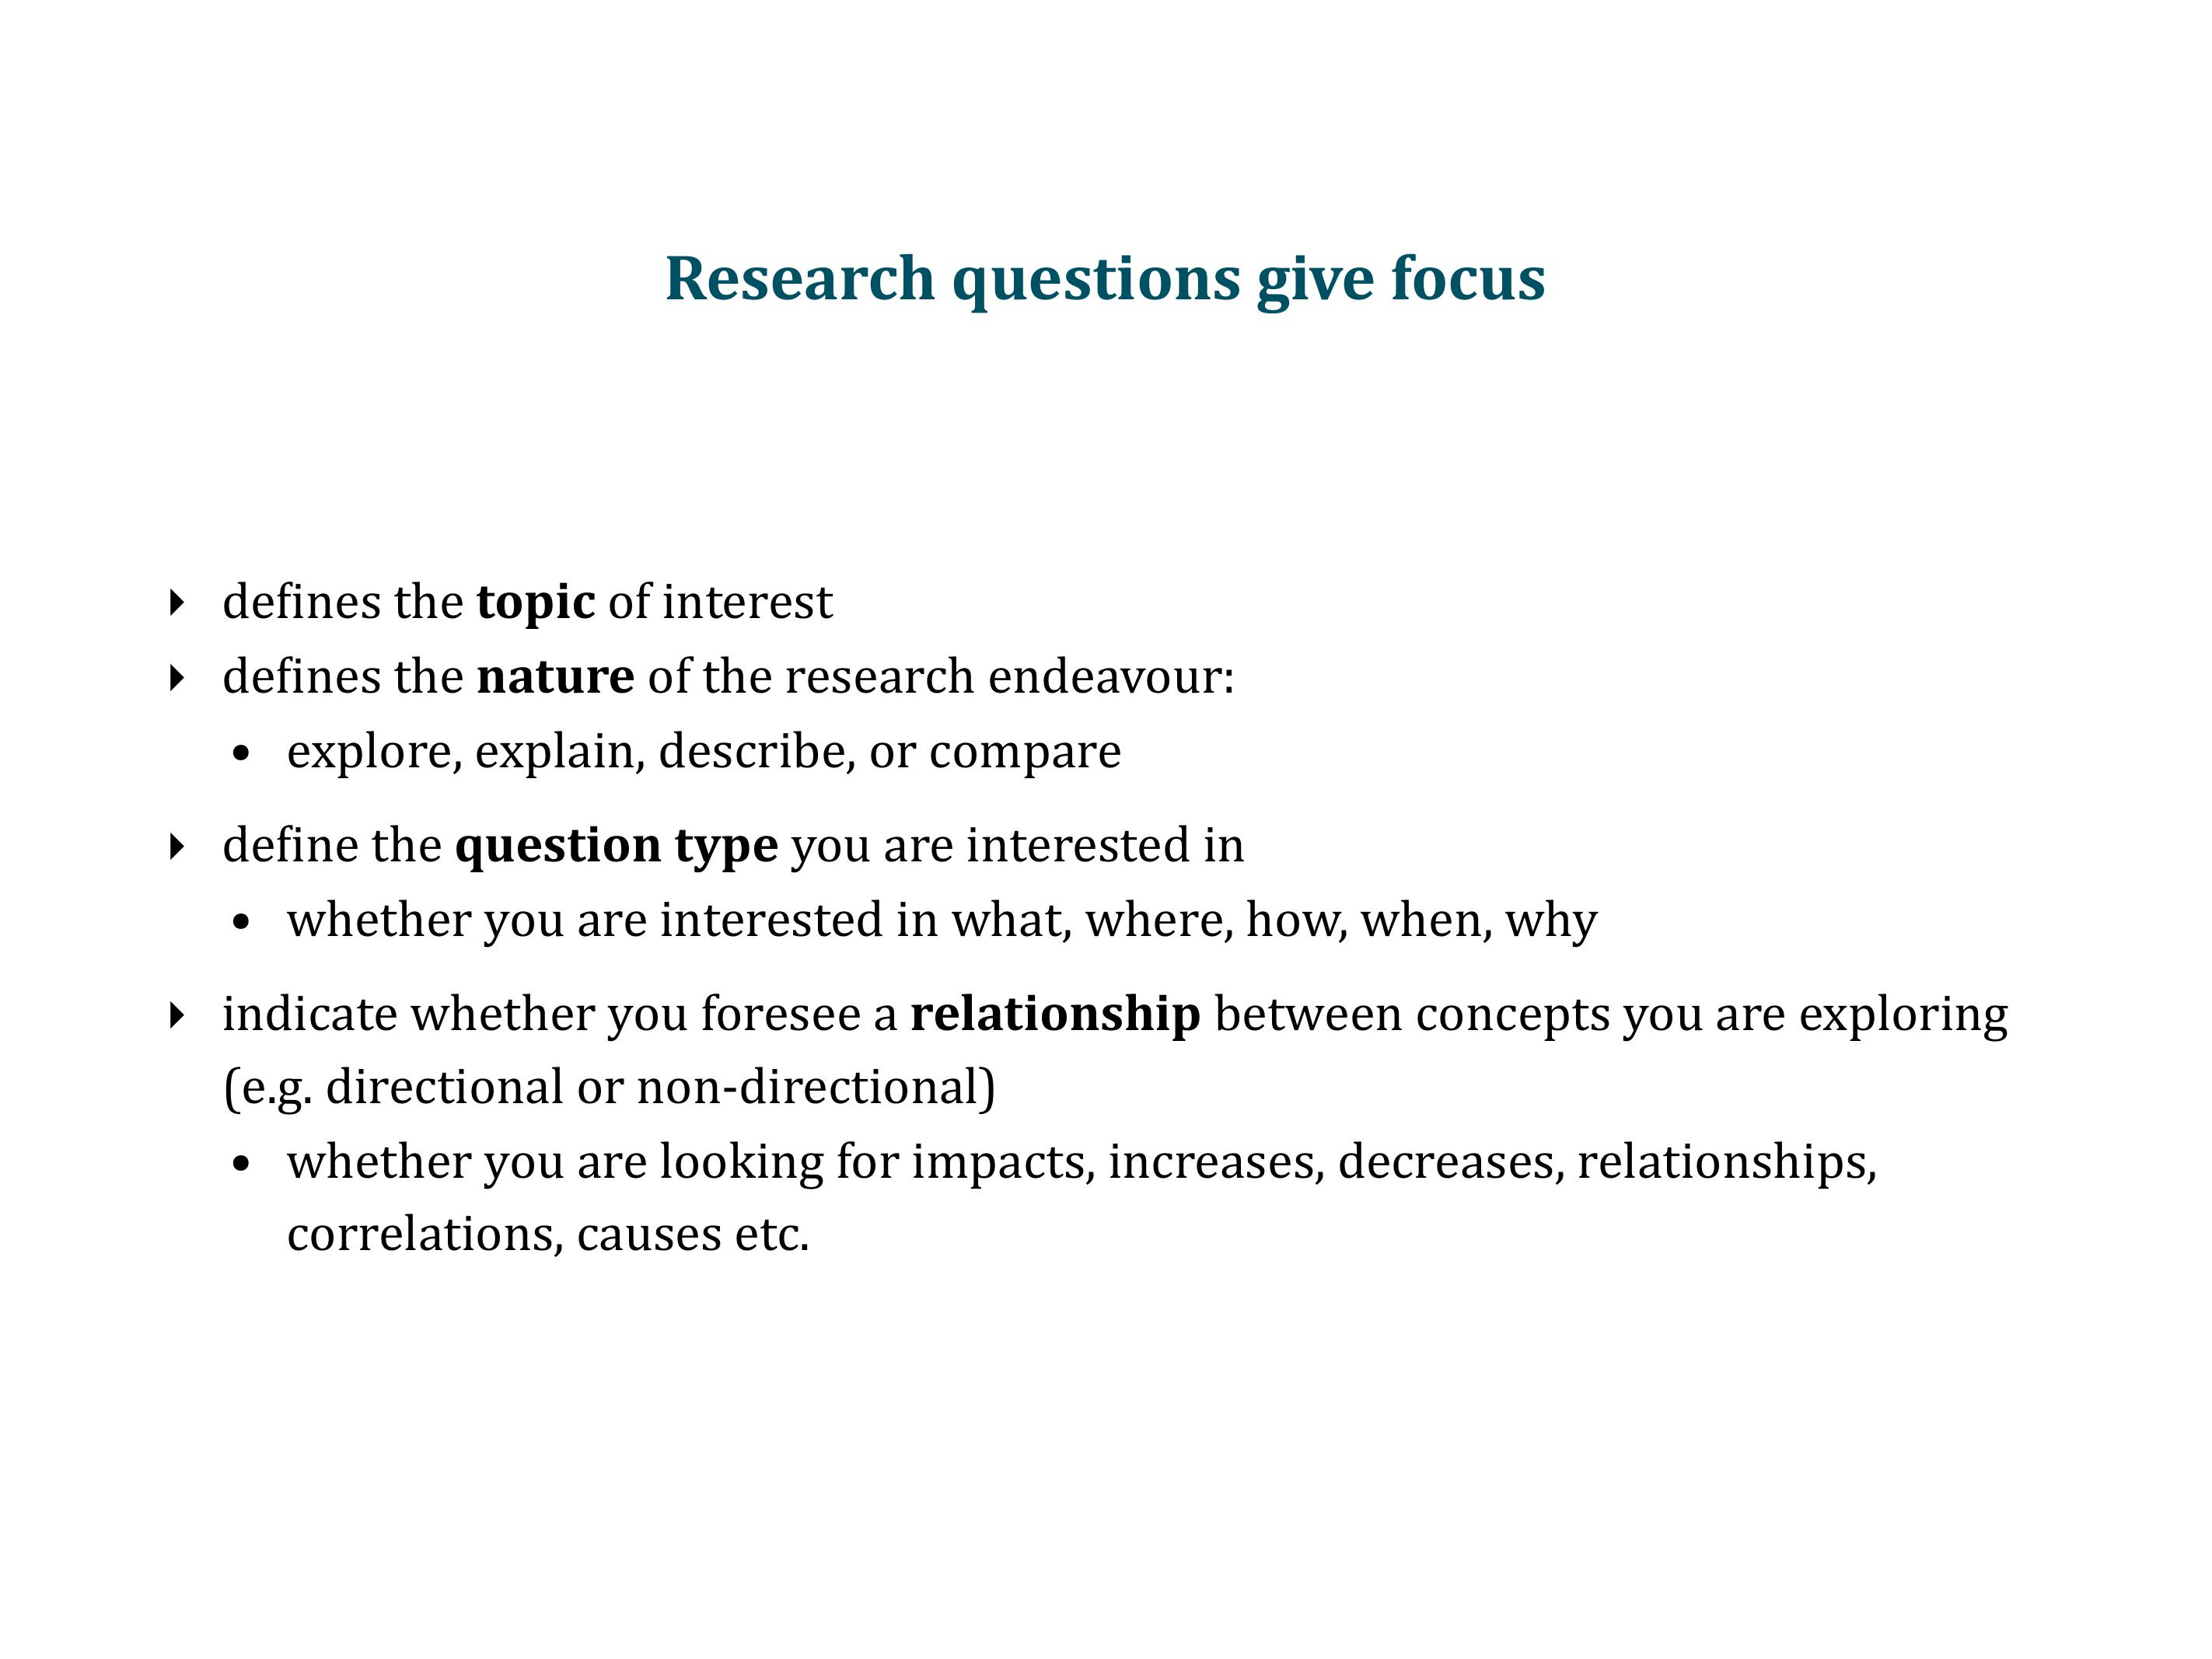Title: (600, 213, 1583, 331)
